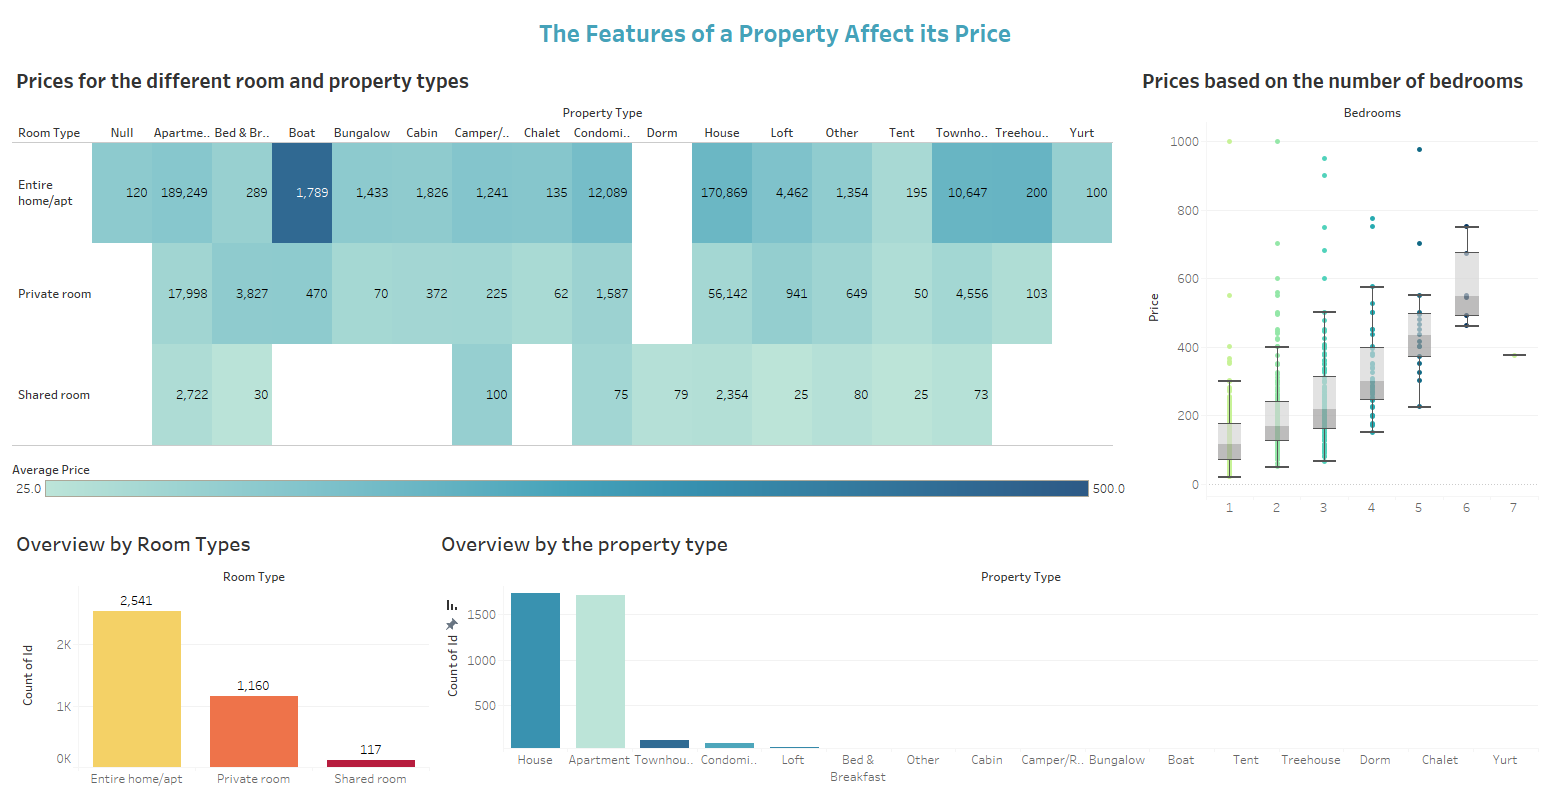

This screenshot's page, from the dashboard's own definition file:
{"tool":"tableau","page":{"name":"Dashboar Features","canvas":[1550,800],"ordinal":0},"visuals":[{"type":"text","box":[8,8,1534,48]},{"type":"worksheet","title":"Heatmap Price","mark":"Square","rows":["room_type"],"cols":["property_type"],"box":[8,56,1126,397.4]},{"type":"worksheet","title":"Boxplot","mark":"Circle","rows":["price"],"cols":["bedrooms"],"box":[1134,56,408,464.9]},{"type":"legend","title":"Heatmap Price","param":"[federated.1e4ef860x81jp717oub7t157w06o].[avg:price:qk]","box":[8,453.3,1126,55]},{"type":"worksheet","title":"Room types","mark":"Automatic","rows":["id"],"cols":["room_type"],"box":[8,519,425,273]},{"type":"worksheet","title":"Property Type","mark":"Automatic","rows":["id"],"cols":["property_type"],"box":[433,519,1109,273]}]}

Visuals, with their boxes in screenshot pixels (x1, y1, x2, y2), scaled from the page's 1550x800 canvas onto the 1550x800 screenshot:
text: bbox(8, 8, 1542, 56)
"Heatmap Price" worksheet (Square marks): bbox(8, 56, 1134, 453)
"Boxplot" worksheet (Circle marks): bbox(1134, 56, 1542, 521)
"Heatmap Price" legend: bbox(8, 453, 1134, 508)
"Room types" worksheet: bbox(8, 519, 433, 792)
"Property Type" worksheet: bbox(433, 519, 1542, 792)
